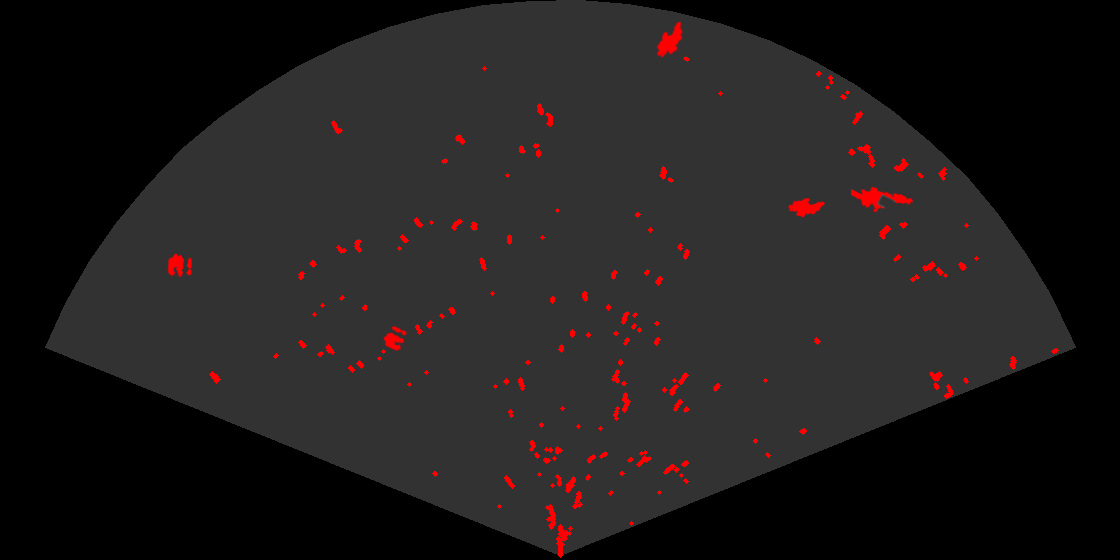AUV: (655, 20, 684, 59), (786, 196, 827, 219)
ball: (382, 324, 409, 353), (166, 252, 193, 279)
frogman: (851, 185, 915, 214)
